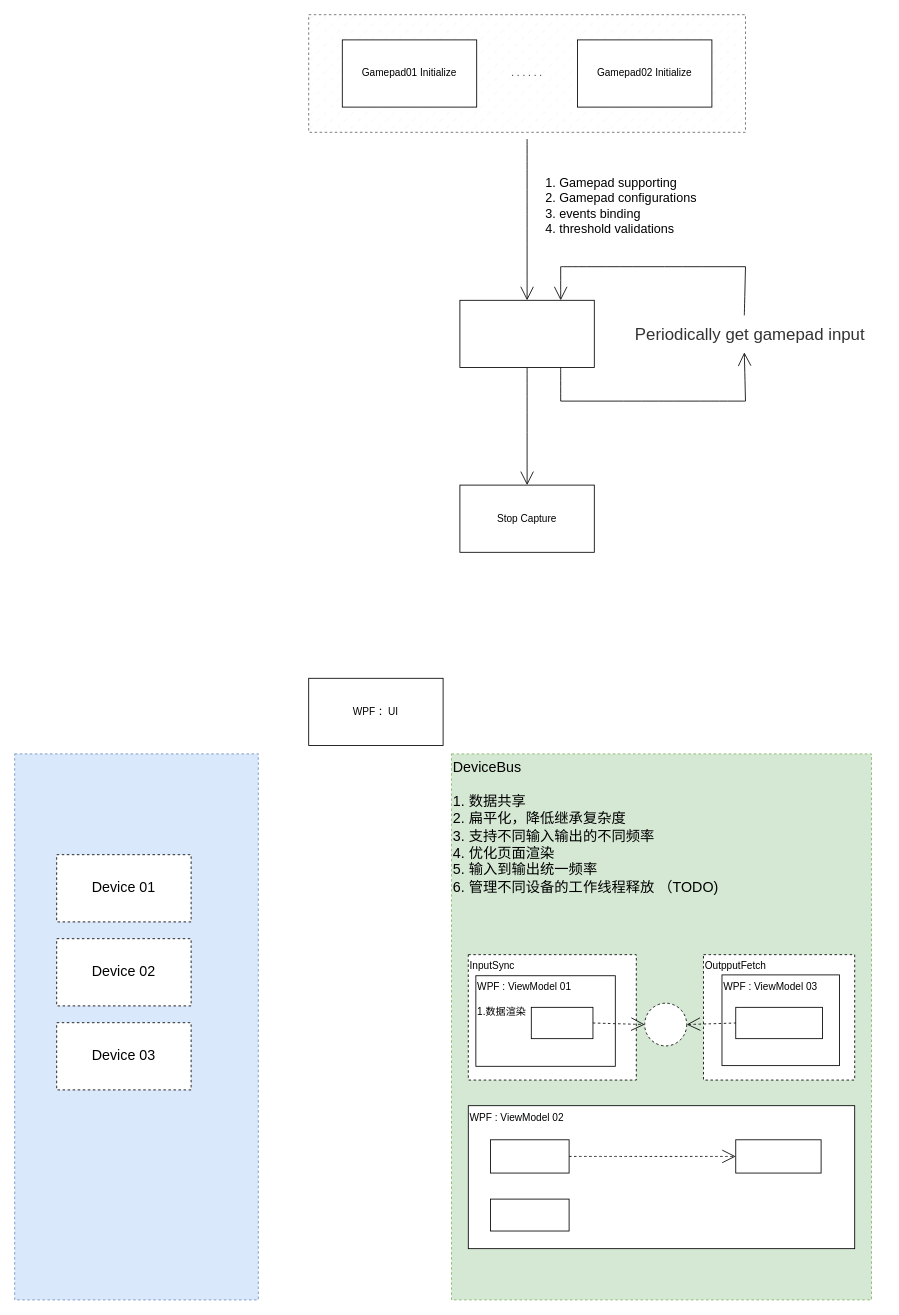
This 899x1315 diagram has some shape labels left out. Here are the shapes that lost their labels. From the top down, the centre of each, then its label:
At point 526,333: "Start Capture".
At point 561,1022: "Input Device 01".
At point 665,1024: "proxy".
At point 778,1022: "Virtual Output Device 01".
At point 529,1156: "Input Device 02".
At point 778,1156: "Output Device 02".
At point 529,1214: "Input Device 03".
